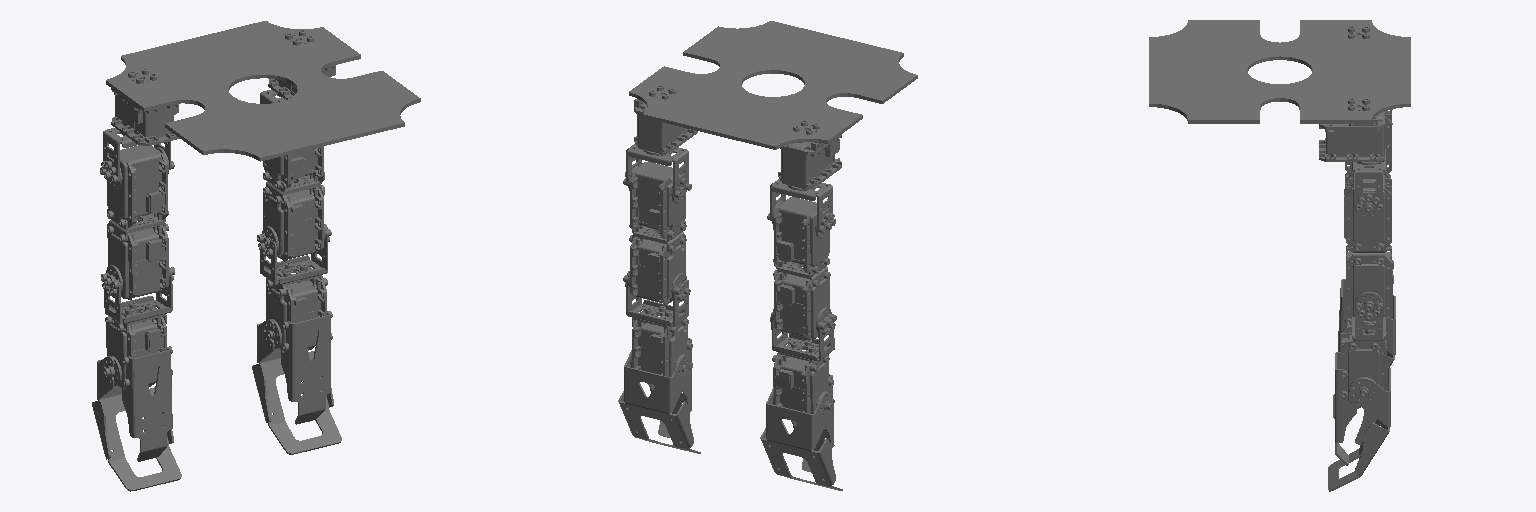
robot.urdf — dualarm:
<?xml version="1.0" ?>
<!-- =================================================================================== -->
<!-- |    This document was autogenerated by xacro from dualarm.xacro                  | -->
<!-- |    EDITING THIS FILE BY HAND IS NOT RECOMMENDED                                 | -->
<!-- =================================================================================== -->
<robot name="dualarm" xmlns:xacro="http://www.ros.org/wiki/xacro">
  <!-- World -->
  <gazebo reference="world">
  </gazebo>
  <!-- base_link -->
  <gazebo reference="base_link">
    <mu1>0.2</mu1>
    <mu2>0.2</mu2>
    <material>Gazebo/Grey</material>
  </gazebo>
  <!-- Link11 -->
  <gazebo reference="Link11">
    <mu1>0.2</mu1>
    <mu2>0.2</mu2>
    <material>Gazebo/Grey</material>
  </gazebo>
  <!-- Link12 -->
  <gazebo reference="Link12">
    <mu1>0.2</mu1>
    <mu2>0.2</mu2>
    <material>Gazebo/Grey</material>
  </gazebo>
  <!-- Link13 -->
  <gazebo reference="Link13">
    <mu1>0.2</mu1>
    <mu2>0.2</mu2>
    <material>Gazebo/Grey</material>
  </gazebo>
  <!-- Link14 -->
  <gazebo reference="Link14">
    <mu1>0.2</mu1>
    <mu2>0.2</mu2>
    <material>Gazebo/Grey</material>
  </gazebo>
  <!-- Link21 -->
  <gazebo reference="Link21">
    <mu1>0.2</mu1>
    <mu2>0.2</mu2>
    <material>Gazebo/Grey</material>
  </gazebo>
  <!-- Link22 -->
  <gazebo reference="Link22">
    <mu1>0.2</mu1>
    <mu2>0.2</mu2>
    <material>Gazebo/Grey</material>
  </gazebo>
  <!-- Link23 -->
  <gazebo reference="Link23">
    <mu1>0.2</mu1>
    <mu2>0.2</mu2>
    <material>Gazebo/Grey</material>
  </gazebo>
  <!-- Link24 -->
  <gazebo reference="Link24">
    <mu1>0.2</mu1>
    <mu2>0.2</mu2>
    <material>Gazebo/Grey</material>
  </gazebo>
  <!-- ros_control plugin -->
  <gazebo>
    <plugin filename="libgazebo_ros_control.so" name="gazebo_ros_control">
      <robotNamespace>/dualarm</robotNamespace>
      <robotSimType>gazebo_ros_control/DefaultRobotHWSim</robotSimType>
    </plugin>
  </gazebo>
  <material name="black">
    <color rgba="0.0 0.0 0.0 1.0"/>
  </material>
  <material name="white">
    <color rgba="1.0 1.0 1.0 1.0"/>
  </material>
  <material name="red">
    <color rgba="0.8 0.0 0.0 1.0"/>
  </material>
  <material name="blue">
    <color rgba="0.0 0.0 0.8 1.0"/>
  </material>
  <material name="green">
    <color rgba="0.0 0.8 0.0 1.0"/>
  </material>
  <material name="grey">
    <color rgba="0.5 0.5 0.5 1.0"/>
  </material>
  <material name="orange">
    <color rgba="1.0 0.423529411765 0.0392156862745 1.0"/>
  </material>
  <material name="brown">
    <color rgba="0.870588235294 0.811764705882 0.764705882353 1.0"/>
  </material>
  <!-- World -->
  <link name="world">
  </link>
  <!-- World fixed joint-->
  <joint name="world_fixed" type="fixed">
    <origin rpy="0 0 0" xyz="0 0 1"/>
    <parent link="world"/>
    <child link="base_link"/>
  </joint>
  <!-- base_link -->
  <link name="base_link">
    <inertial>
      <origin rpy="0 0 0" xyz="0.0038889 0.029746 -0.075699"/>
      <mass value="0.18539"/>
      <inertia ixx="0.00049652" ixy="8.6971E-10" ixz="1.7643E-10" iyy="0.00066277" iyz="5.6329E-05" izz="0.0010875"/>
    </inertial>
    <visual>
      <origin rpy="0 0 0" xyz="0 0 0"/>
      <geometry>
        <mesh filename="package://dualarm/meshes/base_link.STL"/>
      </geometry>
      <material name="grey"/>
    </visual>
    <collision>
      <origin rpy="0 0 0" xyz="0 0 0"/>
      <geometry>
        <mesh filename="package://dualarm/meshes/base_link.STL"/>
      </geometry>
    </collision>
  </link>
  <!-- Link 11 -->
  <link name="Link11">
    <inertial>
      <origin rpy="0 0 0" xyz="-0.00269072051291798 -0.0191705920936856 -1.21513910045223E-13"/>
      <mass value="0.0124705129427262"/>
      <inertia ixx="2.48875397091717E-06" ixy="-2.9114222346888E-07" ixz="-9.51641516240206E-19" iyy="4.55520464990268E-06" iyz="-8.35562268263905E-18" izz="5.90161236148901E-06"/>
    </inertial>
    <visual>
      <origin rpy="0 0 0" xyz="0 0 0"/>
      <geometry>
        <mesh filename="package://dualarm/meshes/Link11.STL"/>
      </geometry>
      <material name="grey"/>
    </visual>
    <collision>
      <origin rpy="0 0 0" xyz="0 0 0"/>
      <geometry>
        <mesh filename="package://dualarm/meshes/Link11.STL"/>
      </geometry>
    </collision>
  </link>
  <!-- joint 11 -->
  <joint name="Joint11" type="revolute">
    <origin rpy="1.5708 0 0" xyz="-0.061111 0.06738 -0.10422"/>
    <parent link="base_link"/>
    <child link="Link11"/>
    <axis xyz="0 1 0"/>
    <limit effort="30" lower="-3.141592654" upper="3.141592654" velocity="6.2"/>
  </joint>
  <!-- Transmission 11 -->
  <transmission name="tran11">
    <type>transmission_interface/SimpleTransmission</type>
    <joint name="Joint11">
      <hardwareInterface>PositionJointInterface</hardwareInterface>
    </joint>
    <actuator name="motor11">
      <hardwareInterface>PositionJointInterface</hardwareInterface>
      <mechanicalReduction>1</mechanicalReduction>
    </actuator>
  </transmission>
  <!-- Link 12 -->
  <link name="Link12">
    <inertial>
      <origin rpy="0 0 0" xyz="0.000212933772728602 -0.0417952294892064 0.000631634826922869"/>
      <mass value="0.101748371406373"/>
      <inertia ixx="0.000111914150536004" ixy="6.25280181032915E-13" ixz="5.27690890980885E-11" iyy="2.05143313948086E-05" iyz="1.53155981169772E-06" izz="0.000119727474259993"/>
    </inertial>
    <visual>
      <origin rpy="0 0 0" xyz="0 0 0"/>
      <geometry>
        <mesh filename="package://dualarm/meshes/Link12.STL"/>
      </geometry>
      <material name="grey"/>
    </visual>
    <collision>
      <origin rpy="0 0 0" xyz="0 0 0"/>
      <geometry>
        <mesh filename="package://dualarm/meshes/Link12.STL"/>
      </geometry>
    </collision>
  </link>
  <!-- joint 12 -->
  <joint name="Joint12" type="revolute">
    <origin rpy="0 0 0" xyz="0 -0.0335 0"/>
    <parent link="Link11"/>
    <child link="Link12"/>
    <axis xyz="1 0 0"/>
    <limit effort="30" lower="-3.141592654" upper="3.141592654" velocity="6.2"/>
  </joint>
  <!-- Transmission 12 -->
  <transmission name="tran12">
    <type>transmission_interface/SimpleTransmission</type>
    <joint name="Joint12">
      <hardwareInterface>PositionJointInterface</hardwareInterface>
    </joint>
    <actuator name="motor12">
      <hardwareInterface>PositionJointInterface</hardwareInterface>
      <mechanicalReduction>1</mechanicalReduction>
    </actuator>
  </transmission>
  <!-- Link 13 -->
  <link name="Link13">
    <inertial>
      <origin rpy="0 0 0" xyz="-0.000258356234005427 -0.0534811075287439 0.00109998454286461"/>
      <mass value="0.0723018406954735"/>
      <inertia ixx="5.24840463906742E-05" ixy="6.59201374784951E-07" ixz="-1.48226262014348E-07" iyy="1.93084109883808E-05" iyz="3.7637324307432E-06" izz="5.93005152649361E-05"/>
    </inertial>
    <visual>
      <origin rpy="0 0 0" xyz="0 0 0"/>
      <geometry>
        <mesh filename="package://dualarm/meshes/Link13.STL"/>
      </geometry>
      <material name="grey"/>
    </visual>
    <collision>
      <origin rpy="0 0 0" xyz="0 0 0"/>
      <geometry>
        <mesh filename="package://dualarm/meshes/Link13.STL"/>
      </geometry>
    </collision>
  </link>
  <!-- joint 13 -->
  <joint name="Joint13" type="revolute">
    <origin rpy="0 0 0" xyz="0 -0.0835900457071312 0.00129006150228277"/>
    <parent link="Link12"/>
    <child link="Link13"/>
    <axis xyz="1 0 0"/>
    <limit effort="30" lower="-3.141592654" upper="3.141592654" velocity="6.2"/>
  </joint>
  <!-- Transmission 13 -->
  <transmission name="tran13">
    <type>transmission_interface/SimpleTransmission</type>
    <joint name="Joint13">
      <hardwareInterface>PositionJointInterface</hardwareInterface>
    </joint>
    <actuator name="motor13">
      <hardwareInterface>PositionJointInterface</hardwareInterface>
      <mechanicalReduction>1</mechanicalReduction>
    </actuator>
  </transmission>
  <!-- Link 14 -->
  <link name="Link14">
    <inertial>
      <origin rpy="0 0 0" xyz="-0.000250000250822911 -0.00692686689003473 0.0375604021905745"/>
      <mass value="0.00851487862558139"/>
      <inertia ixx="6.91407797543249E-06" ixy="1.42108067425982E-15" ixz="5.91004952846371E-14" iyy="8.62639140242658E-06" iyz="-2.08331081779172E-06" izz="4.40145500323547E-06"/>
    </inertial>
    <visual>
      <origin rpy="0 0 0" xyz="0 0 0"/>
      <geometry>
        <mesh filename="package://dualarm/meshes/Link14.STL"/>
      </geometry>
      <material name="grey"/>
    </visual>
    <collision>
      <origin rpy="0 0 0" xyz="0 0 0"/>
      <geometry>
        <mesh filename="package://dualarm/meshes/Link14.STL"/>
      </geometry>
    </collision>
  </link>
  <!-- joint 14 -->
  <joint name="Joint14" type="revolute">
    <origin rpy="1.5707963267949 0 0" xyz="0 -0.0719045361508551 -0.000988777522708054"/>
    <parent link="Link13"/>
    <child link="Link14"/>
    <axis xyz="1 0 0"/>
    <limit effort="30" lower="-3.141592654" upper="3.141592654" velocity="6.2"/>
  </joint>
  <!-- Transmission 14 -->
  <transmission name="tran14">
    <type>transmission_interface/SimpleTransmission</type>
    <joint name="Joint14">
      <hardwareInterface>PositionJointInterface</hardwareInterface>
    </joint>
    <actuator name="motor14">
      <hardwareInterface>PositionJointInterface</hardwareInterface>
      <mechanicalReduction>1</mechanicalReduction>
    </actuator>
  </transmission>
  <!-- Link 21 -->
  <link name="Link21">
    <inertial>
      <origin rpy="0 0 0" xyz="0.00269072051291251 -0.0191705920936802 -1.75331971163928E-13"/>
      <mass value="0.0124705129427262"/>
      <inertia ixx="2.48875397091582E-06" ixy="2.91142223467643E-07" ixz="2.55062796241951E-18" iyy="4.55520464990268E-06" iyz="-5.85000658043222E-18" izz="5.90161236148765E-06"/>
    </inertial>
    <visual>
      <origin rpy="0 0 0" xyz="0 0 0"/>
      <geometry>
        <mesh filename="package://dualarm/meshes/Link21.STL"/>
      </geometry>
      <material name="grey"/>
    </visual>
    <collision>
      <origin rpy="0 0 0" xyz="0 0 0"/>
      <geometry>
        <mesh filename="package://dualarm/meshes/Link21.STL"/>
      </geometry>
    </collision>
  </link>
  <!-- joint 21 -->
  <joint name="Joint21" type="revolute">
    <origin rpy="1.5707963267949 0 0" xyz="0.0688890331121791 0.0673797743375163 -0.104222956866293"/>
    <parent link="base_link"/>
    <child link="Link21"/>
    <axis xyz="0 1 0"/>
    <limit effort="30" lower="-3.141592654" upper="3.141592654" velocity="6.2"/>
  </joint>
  <!-- Transmission 21 -->
  <transmission name="tran21">
    <type>transmission_interface/SimpleTransmission</type>
    <joint name="Joint21">
      <hardwareInterface>PositionJointInterface</hardwareInterface>
    </joint>
    <actuator name="motor21">
      <hardwareInterface>PositionJointInterface</hardwareInterface>
      <mechanicalReduction>1</mechanicalReduction>
    </actuator>
  </transmission>
  <!-- Link 22 -->
  <link name="Link22">
    <inertial>
      <origin rpy="0 0 0" xyz="-0.000212936674845565 -0.0417999999999742 1.33958492594122E-05"/>
      <mass value="0.101748394735894"/>
      <inertia ixx="0.000111914173347709" ixy="-3.74274225546969E-14" ixz="5.05175437048768E-11" iyy="2.04906999368515E-05" iyz="-1.89993088220696E-11" izz="0.00011975113683008"/>
    </inertial>
    <visual>
      <origin rpy="0 0 0" xyz="0 0 0"/>
      <geometry>
        <mesh filename="package://dualarm/meshes/Link22.STL"/>
      </geometry>
      <material name="grey"/>
    </visual>
    <collision>
      <origin rpy="0 0 0" xyz="0 0 0"/>
      <geometry>
        <mesh filename="package://dualarm/meshes/Link22.STL"/>
      </geometry>
    </collision>
  </link>
  <!-- joint 22 -->
  <joint name="Joint22" type="revolute">
    <origin rpy="0 0 0" xyz="0 -0.0335000000001695 0"/>
    <parent link="Link21"/>
    <child link="Link22"/>
    <axis xyz="1 0 0"/>
    <limit effort="30" lower="-3.141592654" upper="3.141592654" velocity="6.2"/>
  </joint>
  <!-- Transmission 22 -->
  <transmission name="tran22">
    <type>transmission_interface/SimpleTransmission</type>
    <joint name="Joint22">
      <hardwareInterface>PositionJointInterface</hardwareInterface>
    </joint>
    <actuator name="motor22">
      <hardwareInterface>PositionJointInterface</hardwareInterface>
      <mechanicalReduction>1</mechanicalReduction>
    </actuator>
  </transmission>
  <!-- Link 23 -->
  <link name="Link23">
    <inertial>
      <origin rpy="0 0 0" xyz="0.000258356011076918 -0.0534802413457883 0.00511995884963463"/>
      <mass value="0.0723018421286062"/>
      <inertia ixx="5.29721949031617E-05" ixy="-6.6483176337677E-07" ixz="-2.47921801899711E-08" iyy="1.95516873635774E-05" iyz="7.0500598856354E-06" izz="5.95453878396972E-05"/>
    </inertial>
    <visual>
      <origin rpy="0 0 0" xyz="0 0 0"/>
      <geometry>
        <mesh filename="package://dualarm/meshes/Link23.STL"/>
      </geometry>
      <material name="grey"/>
    </visual>
    <collision>
      <origin rpy="0 0 0" xyz="0 0 0"/>
      <geometry>
        <mesh filename="package://dualarm/meshes/Link23.STL"/>
      </geometry>
    </collision>
  </link>
  <!-- joint 23 -->
  <joint name="Joint23" type="revolute">
    <origin rpy="0 0 0" xyz="0 -0.0835999999999738 0"/>
    <parent link="Link22"/>
    <child link="Link23"/>
    <axis xyz="1 0 0"/>
    <limit effort="30" lower="-3.141592654" upper="3.141592654" velocity="6.2"/>
  </joint>
  <!-- Transmission 23 -->
  <transmission name="tran23">
    <type>transmission_interface/SimpleTransmission</type>
    <joint name="Joint23">
      <hardwareInterface>PositionJointInterface</hardwareInterface>
    </joint>
    <actuator name="motor23">
      <hardwareInterface>PositionJointInterface</hardwareInterface>
      <mechanicalReduction>1</mechanicalReduction>
    </actuator>
  </transmission>
  <!-- Link 24 -->
  <link name="Link24">
    <inertial>
      <origin rpy="0 0 0" xyz="9.99997491718391E-05 -0.00692686689003466 0.0375604021905746"/>
      <mass value="0.00851487862558145"/>
      <inertia ixx="6.91407797543258E-06" ixy="1.42107441737012E-15" ixz="5.91004796186852E-14" iyy="8.62639140242662E-06" iyz="-2.08331081779176E-06" izz="4.4014550032355E-06"/>
    </inertial>
    <visual>
      <origin rpy="0 0 0" xyz="0 0 0"/>
      <geometry>
        <mesh filename="package://dualarm/meshes/Link24.STL"/>
      </geometry>
      <material name="grey"/>
    </visual>
    <collision>
      <origin rpy="0 0 0" xyz="0 0 0"/>
      <geometry>
        <mesh filename="package://dualarm/meshes/Link24.STL"/>
      </geometry>
    </collision>
  </link>
  <!-- joint 24 -->
  <joint name="Joint24" type="revolute">
    <origin rpy="1.5708 0 0" xyz="0 -0.0718 0.004"/>
    <parent link="Link23"/>
    <child link="Link24"/>
    <axis xyz="1 0 0"/>
    <limit effort="30" lower="-3.141592654" upper="3.141592654" velocity="6.2"/>
  </joint>
  <!-- Transmission 24 -->
  <transmission name="tran24">
    <type>transmission_interface/SimpleTransmission</type>
    <joint name="Joint24">
      <hardwareInterface>PositionJointInterface</hardwareInterface>
    </joint>
    <actuator name="motor24">
      <hardwareInterface>PositionJointInterface</hardwareInterface>
      <mechanicalReduction>1</mechanicalReduction>
    </actuator>
  </transmission>
</robot>

--- Render facts (derived) ---
Views: 3 orthographic renders of the robot side by side, from view 1: azimuth 30°, elevation 25°; view 2: azimuth 150°, elevation 25°; view 3: azimuth 270°, elevation 25°.
Robot: dualarm — 10 links, 9 joints (8 revolute, 1 fixed); root link world; default pose: all joints at 0.
Visible links, largest first — view 1: base_link, Link23, Link13, Link12, Link22, Link24, Link14, Link11; view 2: base_link, Link12, Link22, Link13, Link23, Link14, Link24, Link21, Link11; view 3: base_link, Link22, Link23, Link24, Link21, Link12, Link14, Link13.
Boxes of the visible links, <box> form: base_link: <box>106,21,420,161</box>; Link23: <box>257,229,332,424</box>; Link13: <box>101,267,174,461</box>; Link12: <box>104,145,169,299</box>; Link22: <box>262,146,327,261</box>; Link24: <box>252,319,341,454</box>; Link14: <box>92,356,181,491</box>; Link11: <box>100,128,174,182</box>; base_link: <box>629,21,917,190</box>; Link12: <box>772,197,832,339</box>; Link22: <box>627,161,686,304</box>; Link13: <box>770,312,836,472</box>; Link23: <box>623,275,692,437</box>; Link14: <box>760,387,842,490</box>; Link24: <box>618,350,700,453</box>; Link21: <box>623,144,691,197</box>; Link11: <box>767,179,835,233</box>; base_link: <box>1149,20,1410,164</box>; Link22: <box>1346,172,1391,316</box>; Link23: <box>1335,303,1386,465</box>; Link24: <box>1328,367,1390,491</box>; Link21: <box>1352,149,1385,211</box>; Link12: <box>1344,109,1392,238</box>; Link14: <box>1333,295,1395,418</box>; Link13: <box>1338,251,1393,351</box>.
Bounding box of the posed robot: 0.1844 × 0.2 × 0.3181 m (x, y, z).
Meshes: 9 distinct files referenced, 9 mesh visuals loaded (9 binary STL).